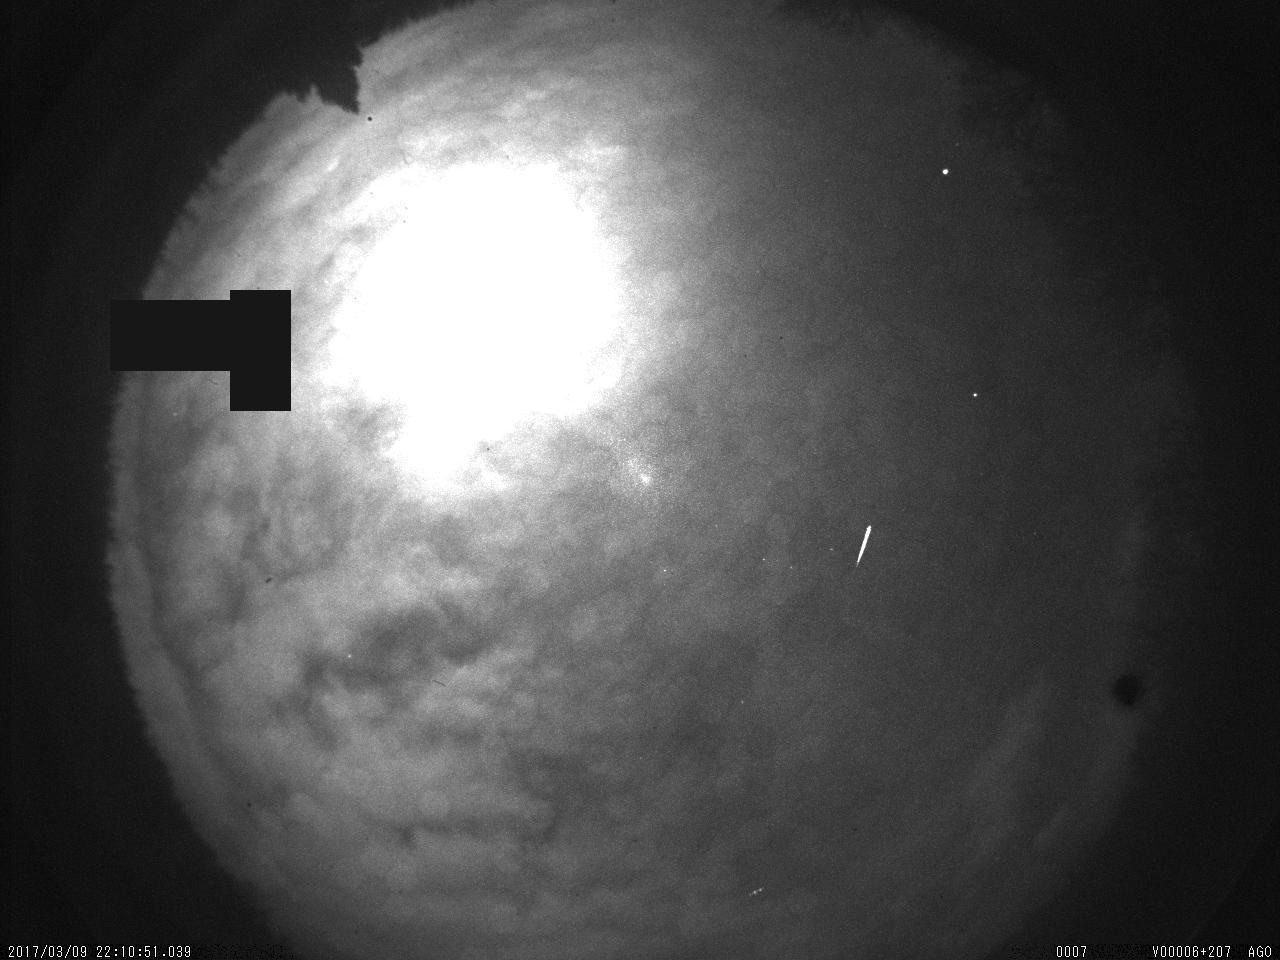meteor: (829, 503, 898, 582)
